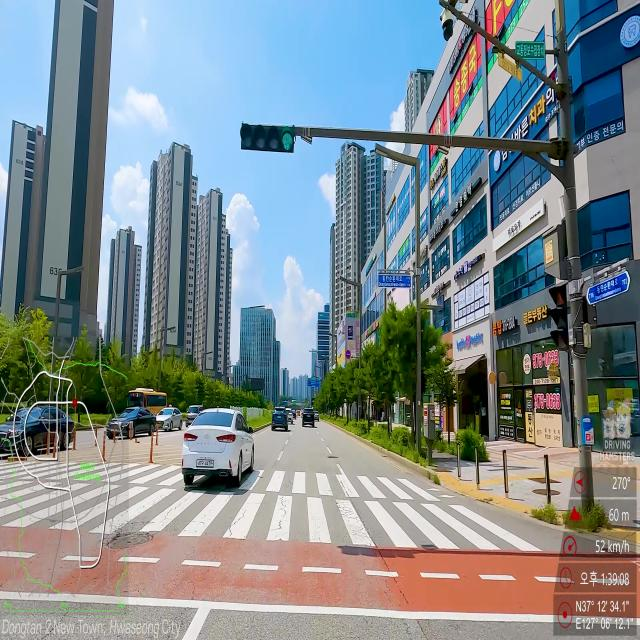Green Light: (280, 130, 294, 152)
